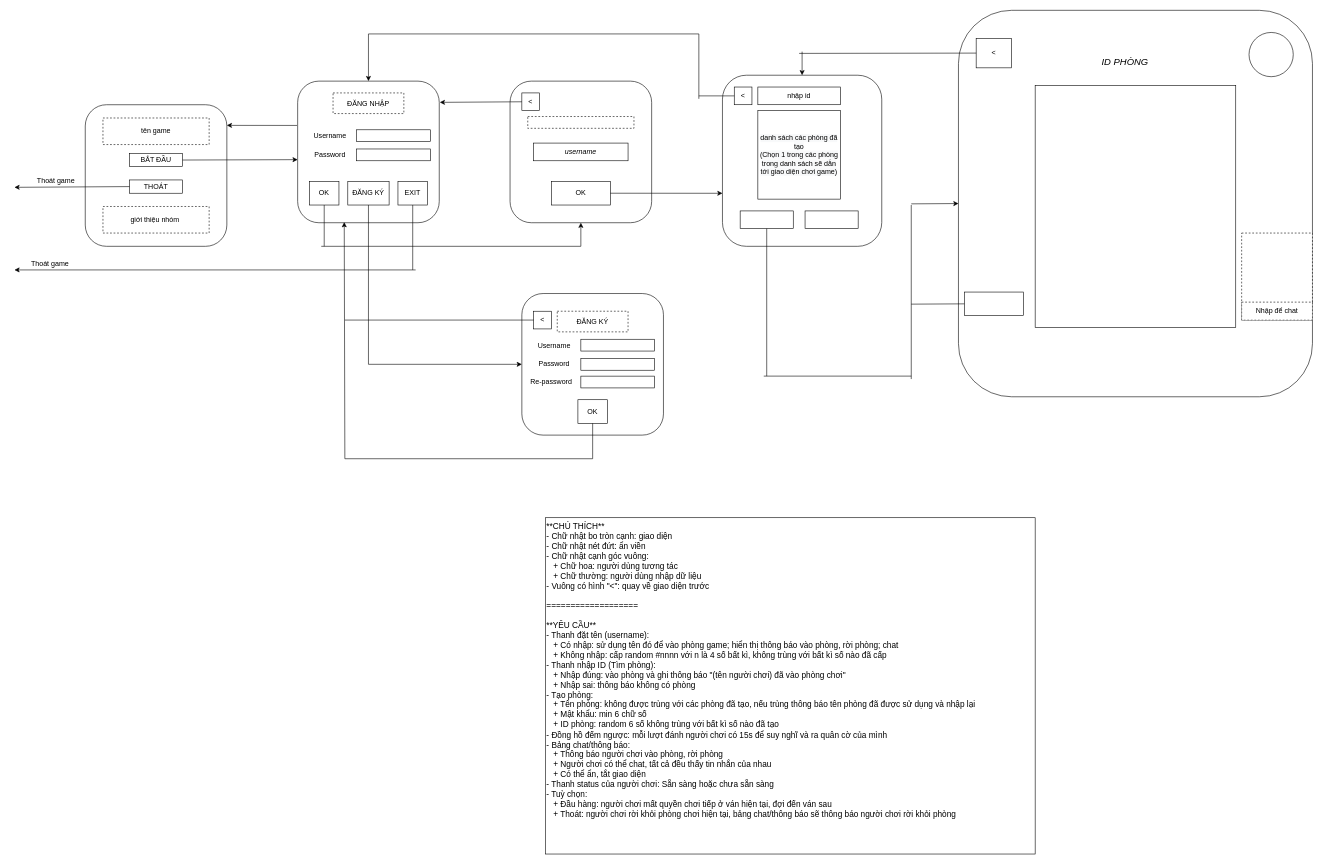
Image size: 1323x864. Some labels were removed from this diagram. Here are the shapes that lost their labels. From the top down, the box of each, then its label:
(1248, 32, 1293, 77): Đếm ngược 30s
(527, 116, 634, 128): ĐẶT TÊN
(740, 210, 793, 229): TẠO PHÒNG
(804, 210, 858, 229): REFRESH
(1035, 85, 1236, 327): Bàn cờ vây
(1241, 232, 1312, 320): Bảng chat/thông báo
(964, 291, 1023, 316): CHƠI LẠI
